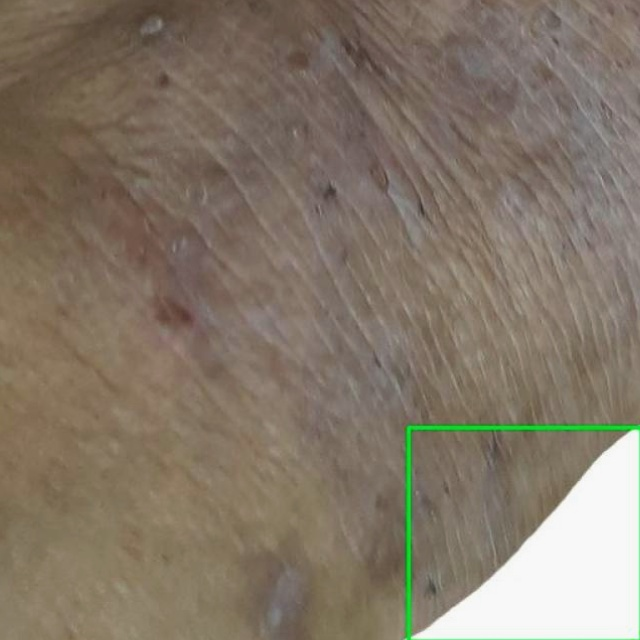Contact Dermatitis: (408, 427, 639, 639)
